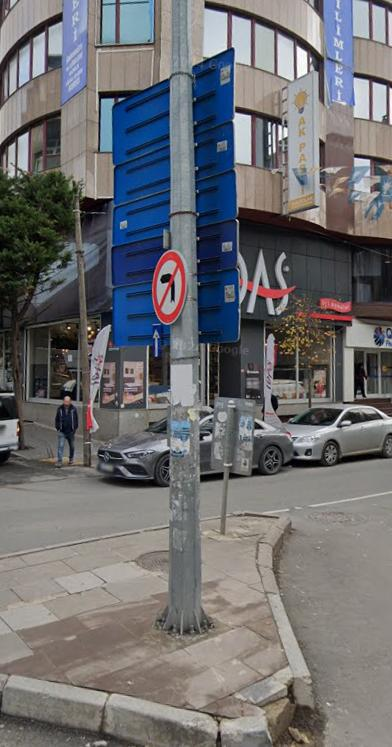leftturnsareforbidden: (152, 252, 187, 324)
